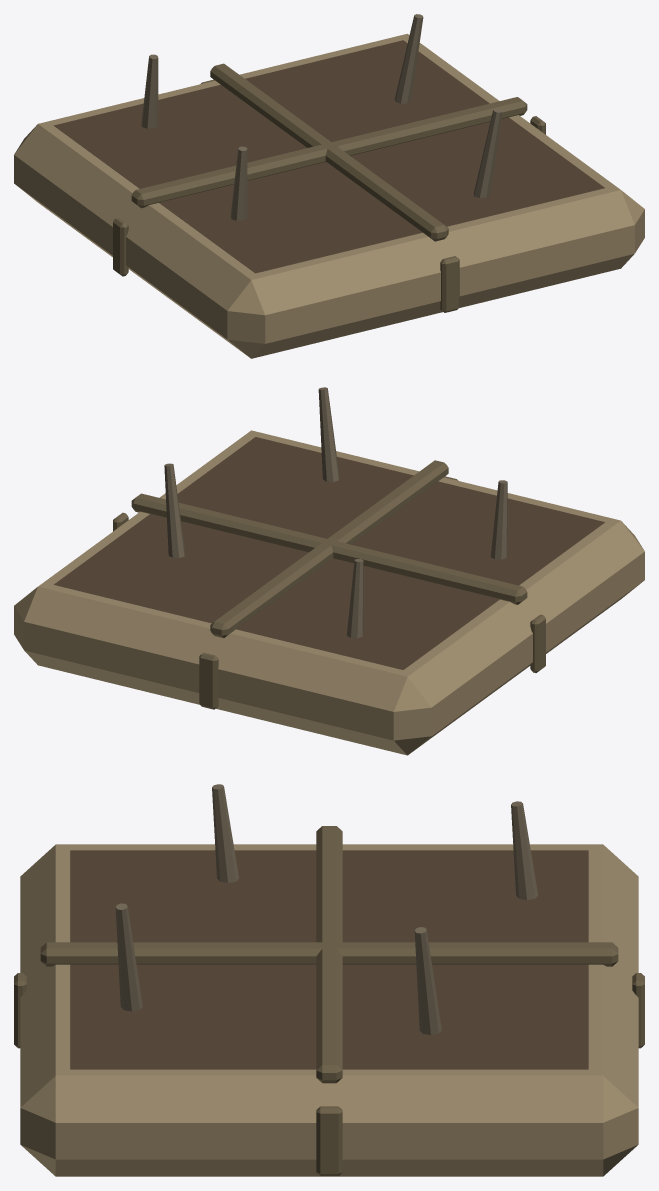
The model's file is flowers_2_packed_winter.glb.
3 views of the same model, one above another, from view 1: azimuth 30°, elevation 25°; view 2: azimuth 150°, elevation 25°; view 3: azimuth 270°, elevation 25° (orthographic). The views are drawn at different scales.
Visible parts, largest first — view 1: flowers_2_packed_winter; view 2: flowers_2_packed_winter; view 3: flowers_2_packed_winter.
Part boxes in pixels (x1,y1,x2,y2): flowers_2_packed_winter: (14,14,644,358); flowers_2_packed_winter: (14,387,644,755); flowers_2_packed_winter: (14,784,644,1176).
Size of the model in its own units: 1.25 by 0.457 by 1.25.
